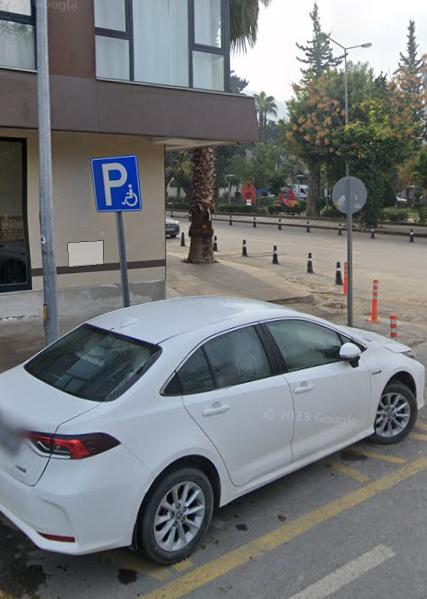disabledpark: (92, 158, 139, 208)
